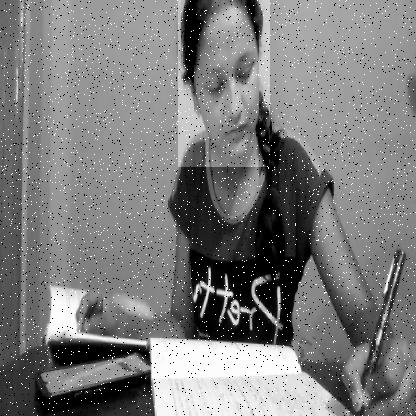Normal: (178, 0, 270, 167)
